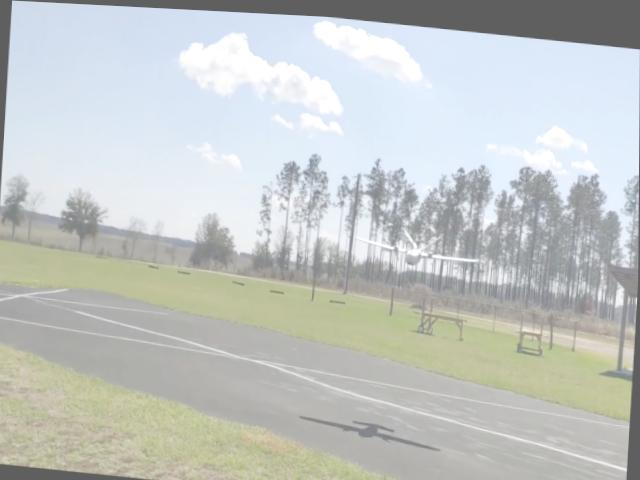plane: (353, 221, 482, 268)
